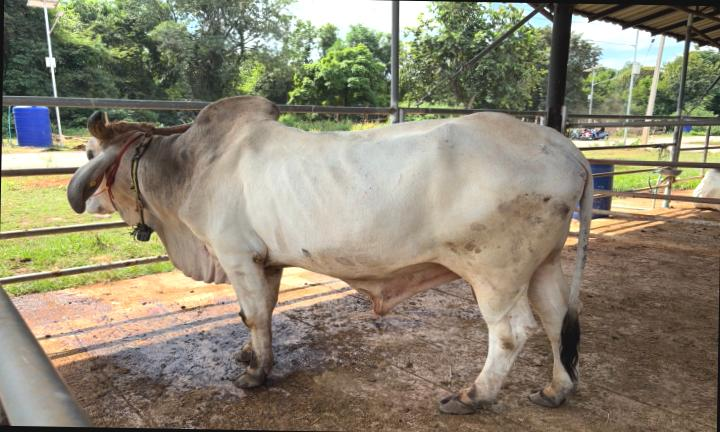Brahman: (67, 96, 593, 414)
